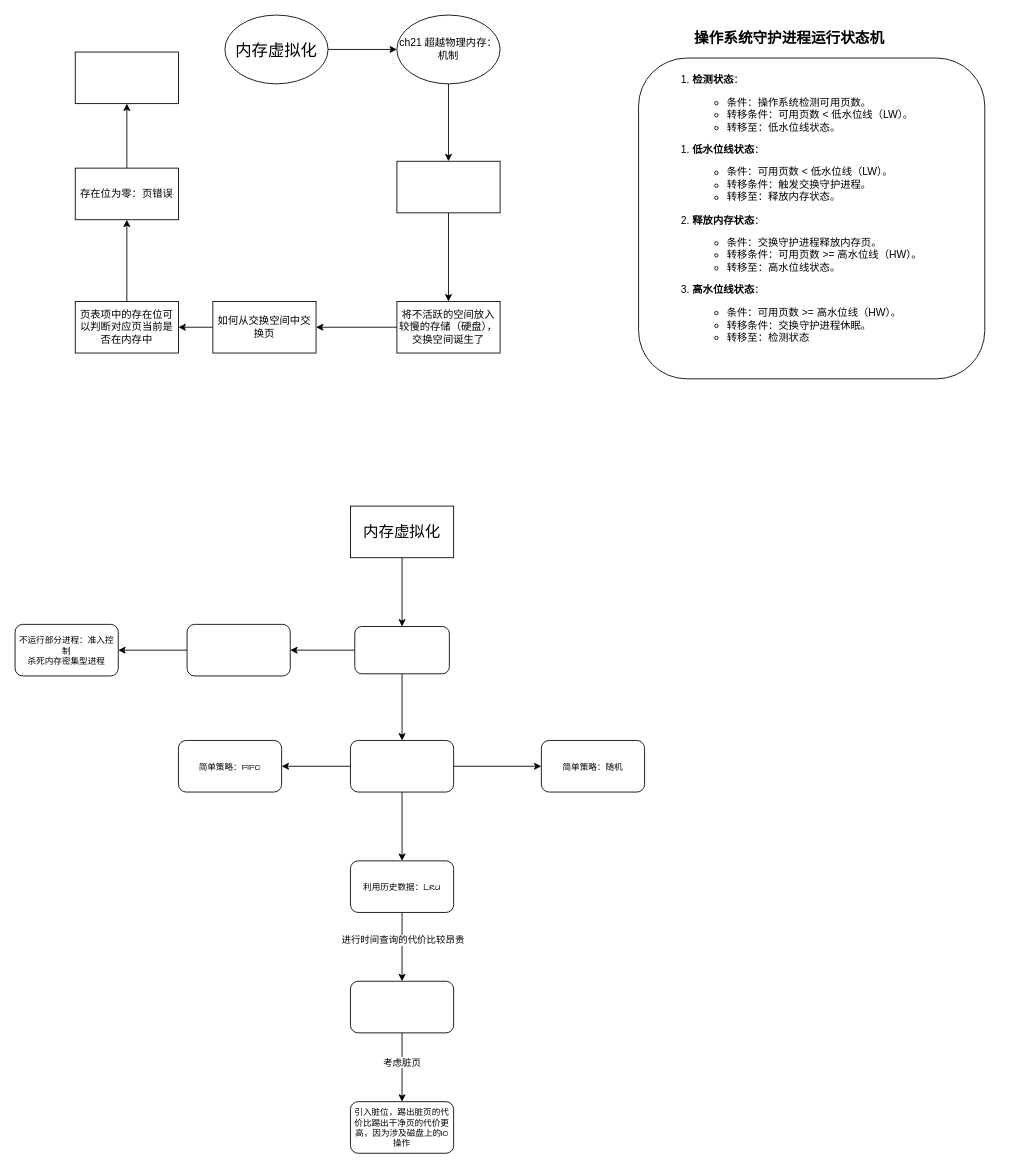
Image size: 1010x1169. Some labels were removed from this diagram. The shapes that lost their labels are listed below. From the top down, each one's centre as x and y in pixels, then its label:
At point (126, 77): "操作系统从硬盘中将页交换回来（查询，读取，重新进行内存引用）".
At point (448, 186): "用户需要超大的虚拟内存空间".
At point (238, 650): "内存被超额请求时，不断进行换页，称为抖动".
At point (401, 650): "缓存管 理：使用交换空间中的页的成本很高，所以换页重要性不言而喻".
At point (402, 766): "理论上的最优替换策略，提供一个可供对比的上限".
At point (402, 1006): "时钟算法近似 LRU".
